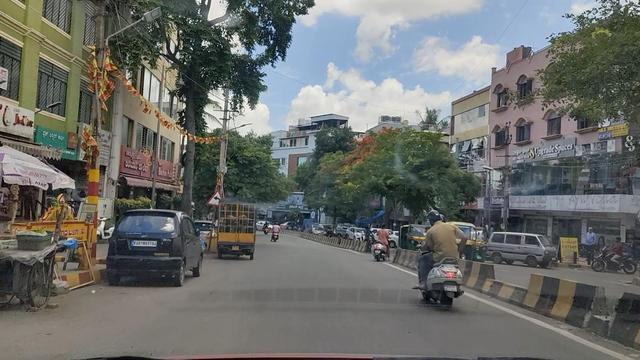LMV: (104, 203, 198, 285), (413, 206, 457, 295), (218, 203, 252, 256), (376, 219, 392, 257)
